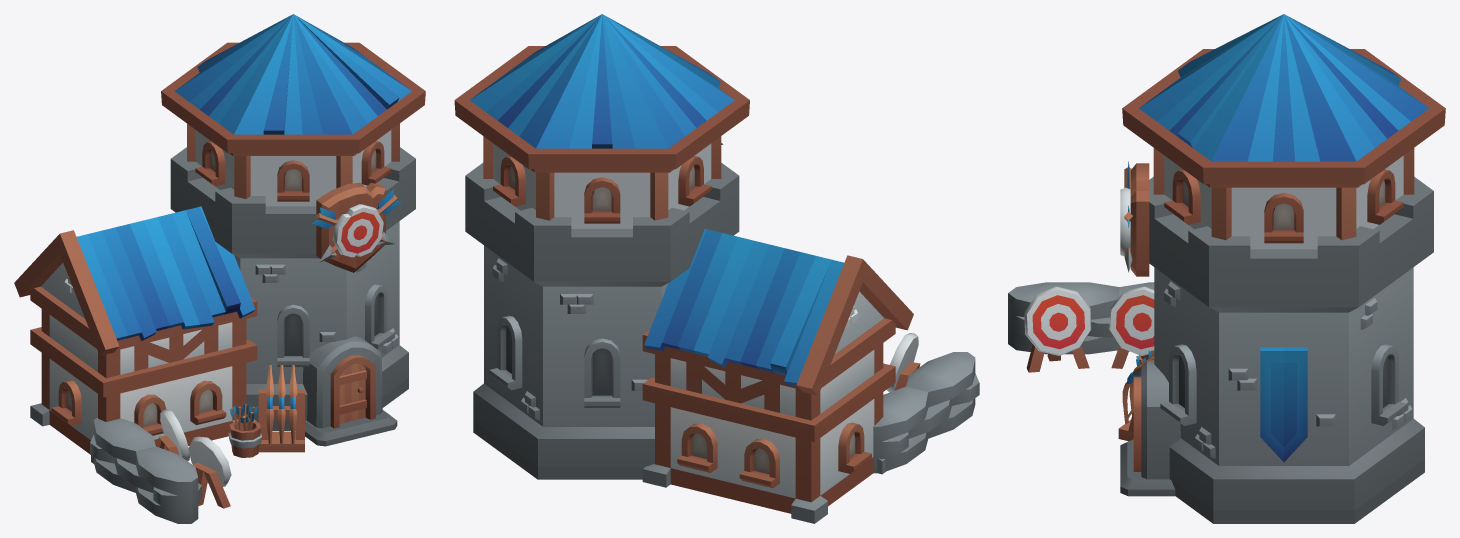
Rendered from archery-range.glb.
3 views of the same model, side by side, from view 1: azimuth 30°, elevation 25°; view 2: azimuth 150°, elevation 25°; view 3: azimuth 270°, elevation 25° (orthographic). The views are drawn at different scales.
Visible parts, largest first — view 1: building_archeryrange_blue; view 2: building_archeryrange_blue; view 3: building_archeryrange_blue.
Part boxes in pixels (x1,y1,x2,y2): building_archeryrange_blue: (14, 14, 425, 523); building_archeryrange_blue: (454, 14, 979, 523); building_archeryrange_blue: (1008, 14, 1445, 523).
Bounding box in the file's own units: 1.67 × 1.79 × 1.55.
1 material, 1 textured.
